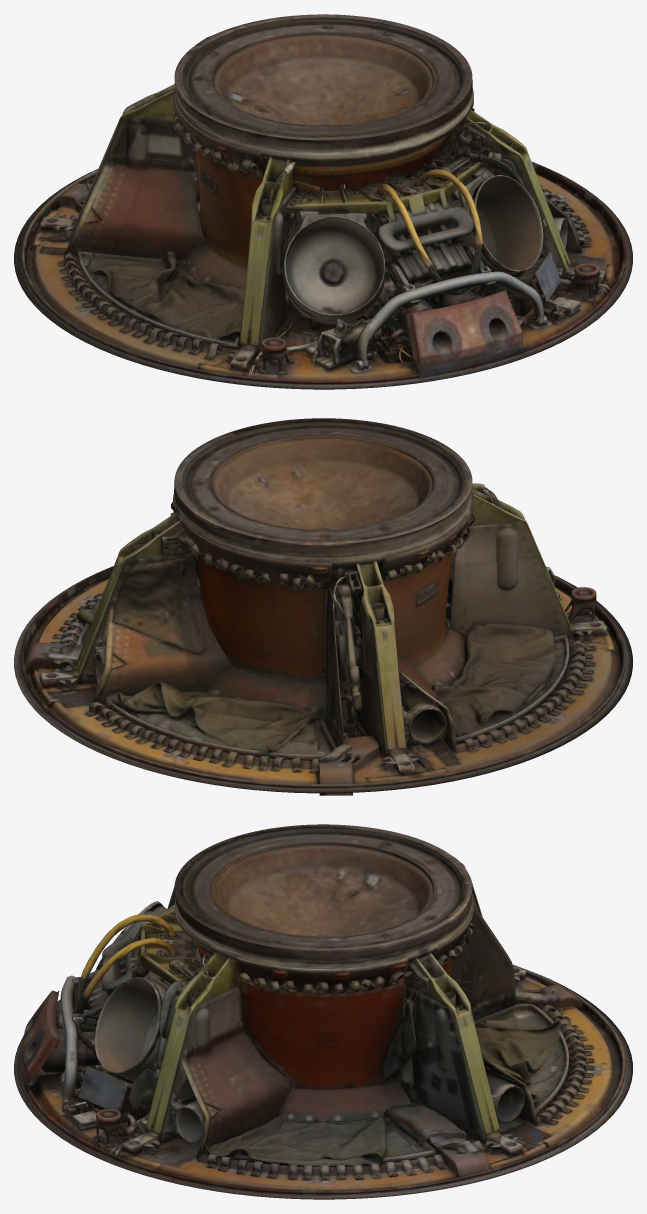
Rendered from columbia-top.glb.
3 renders of one model, top to bottom at view 1: azimuth 30°, elevation 25°; view 2: azimuth 150°, elevation 25°; view 3: azimuth 270°, elevation 25°, orthographic.
Bounding box in the file's own units: 196 × 66.17 × 196.
Materials: 1 (1 with a texture image).
